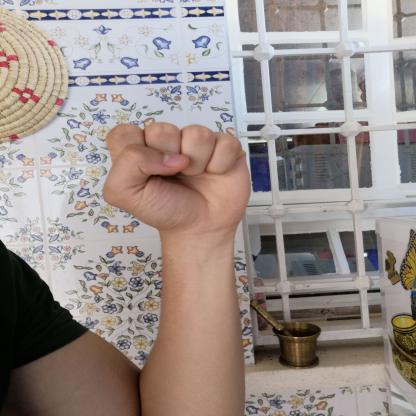SAD: (80, 108, 263, 245)
